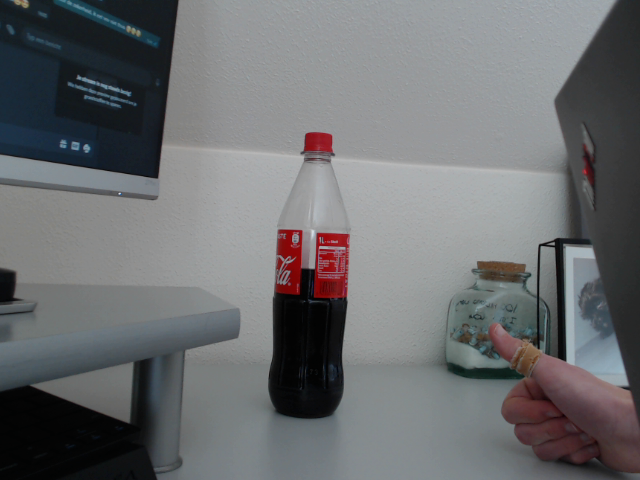bottle: (269, 132, 350, 420)
